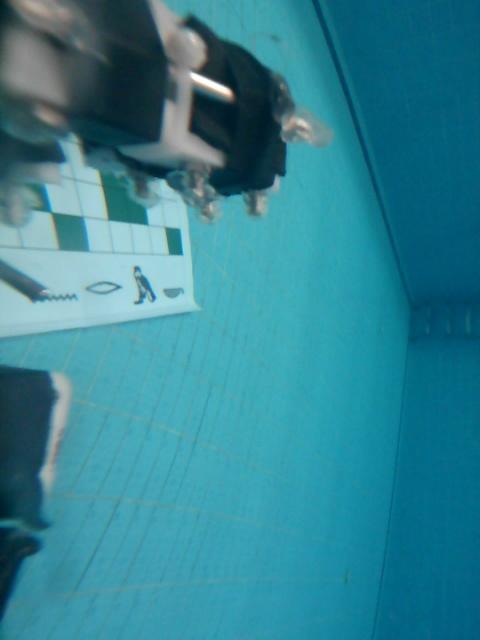Basket: (164, 285, 189, 300)
Mouth: (84, 278, 121, 295)
Owl: (125, 258, 154, 308)
Water: (42, 289, 82, 305)
